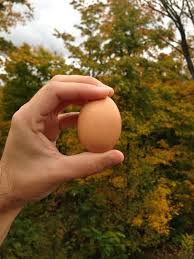egg: (78, 95, 121, 153)
